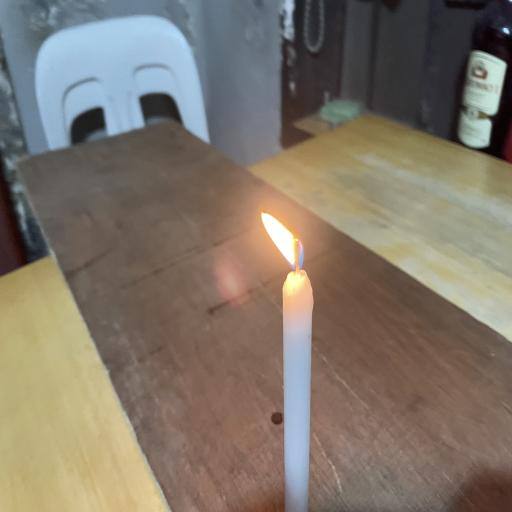fire: (239, 199, 317, 282)
